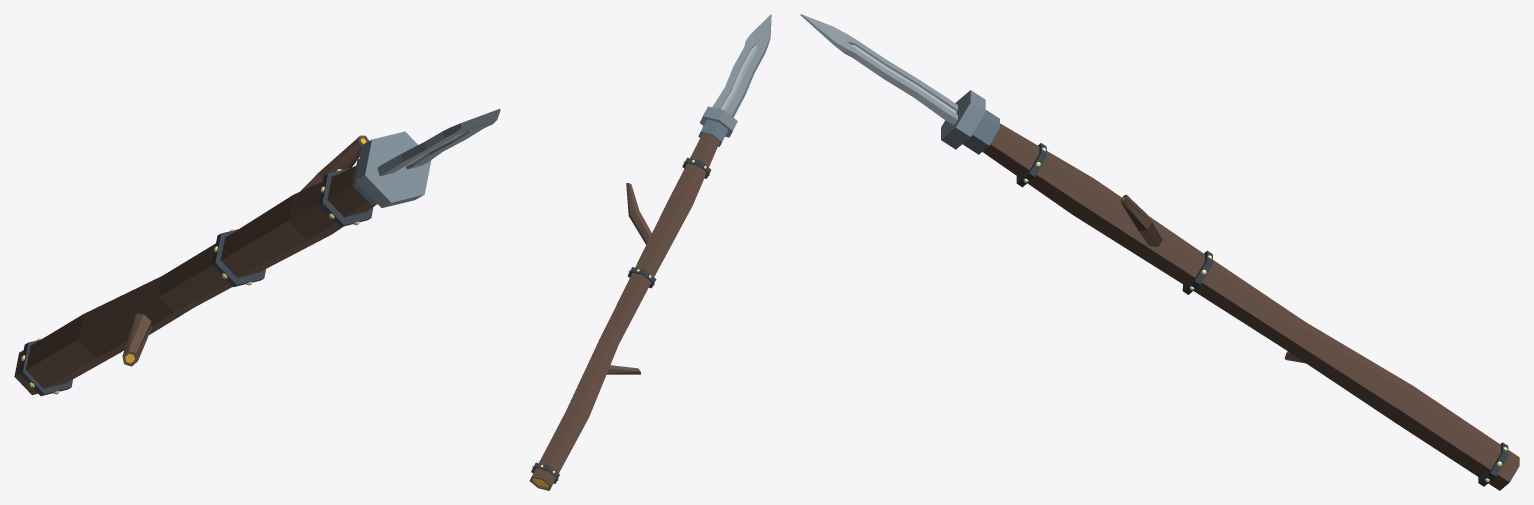
The model's file is spear.obj.
3 views of the same model, side by side, from view 1: azimuth 30°, elevation 25°; view 2: azimuth 150°, elevation 25°; view 3: azimuth 270°, elevation 25° (orthographic). The views are drawn at different scales.
Parts seen in each view (by area): view 1: Cylinder.084, Cylinder.086, Blade.006, Cylinder.089, Cylinder.088, Cylinder.087; view 2: Cylinder.084, Blade.006, Cylinder.086, Cylinder.085; view 3: Cylinder.084, Blade.006, Cylinder.086, Cylinder.085.
Part boxes in pixels (<box>): Cylinder.084: <box>14,135,377,395</box>; Cylinder.086: <box>355,131,431,207</box>; Blade.006: <box>377,109,500,176</box>; Cylinder.089: <box>319,167,373,226</box>; Cylinder.088: <box>212,229,265,286</box>; Cylinder.087: <box>19,338,72,395</box>; Cylinder.084: <box>529,133,719,490</box>; Blade.006: <box>712,14,771,117</box>; Cylinder.086: <box>700,106,737,137</box>; Cylinder.085: <box>698,119,727,146</box>; Cylinder.084: <box>982,123,1519,490</box>; Blade.006: <box>800,14,957,125</box>; Cylinder.086: <box>941,90,985,149</box>; Cylinder.085: <box>962,110,999,154</box>.
Size of the model in its own units: 0.5516 by 2.36 by 3.25.
1 material, 1 textured.
